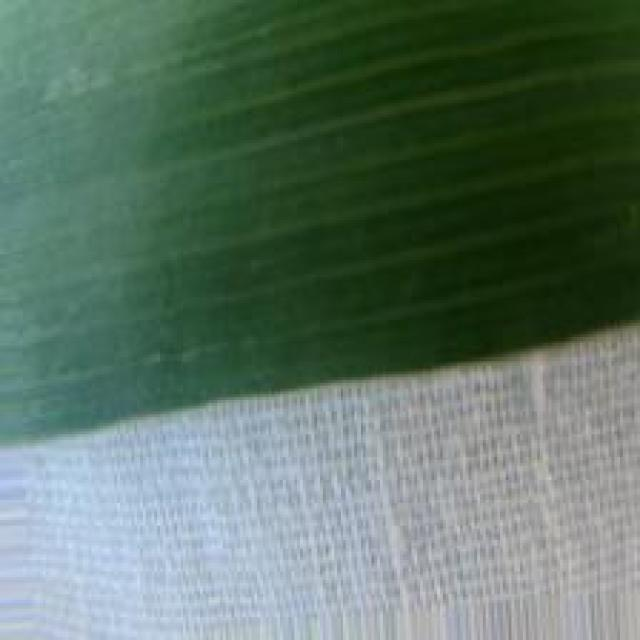Healthy: (0, 0, 640, 451)
